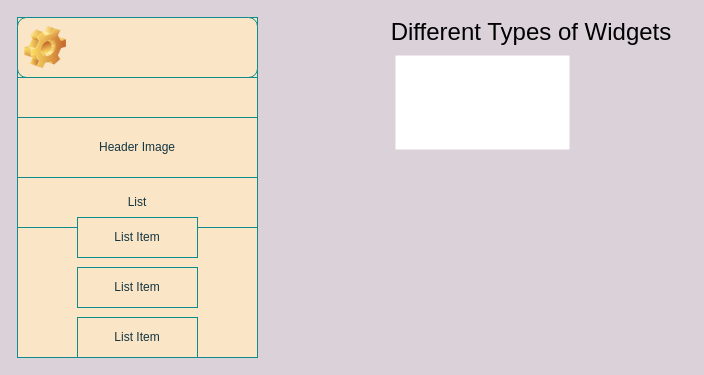
Image size: 704x375. Some labels were removed from this diagram. The centre of each missing label's shape, as x and y in pixels:
App Bar: pixel 137 97
Flutter App: pixel 137 47
